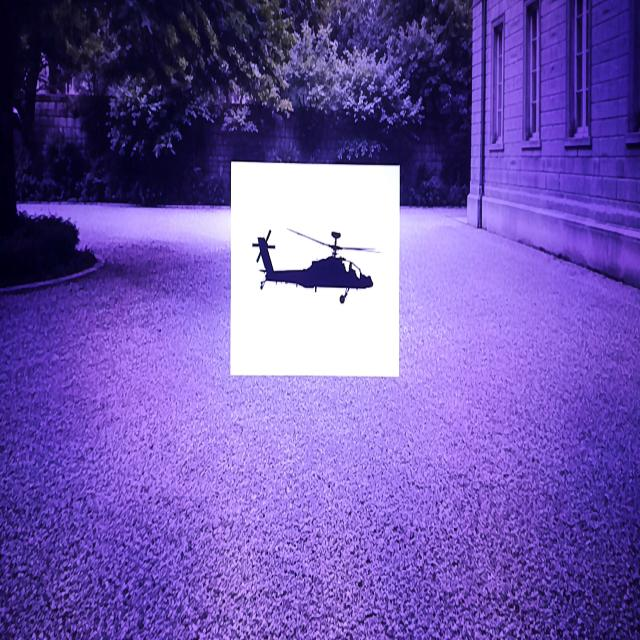Apache friendly: (253, 230, 377, 303)
